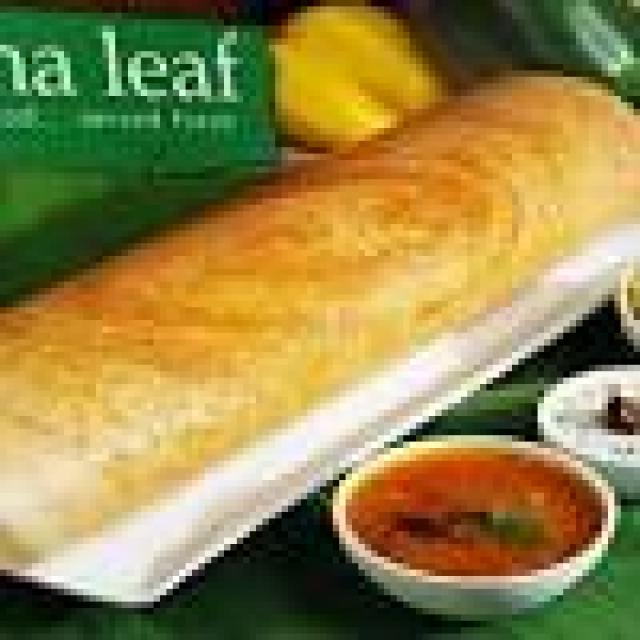Wet Waste: (0, 77, 634, 576)
